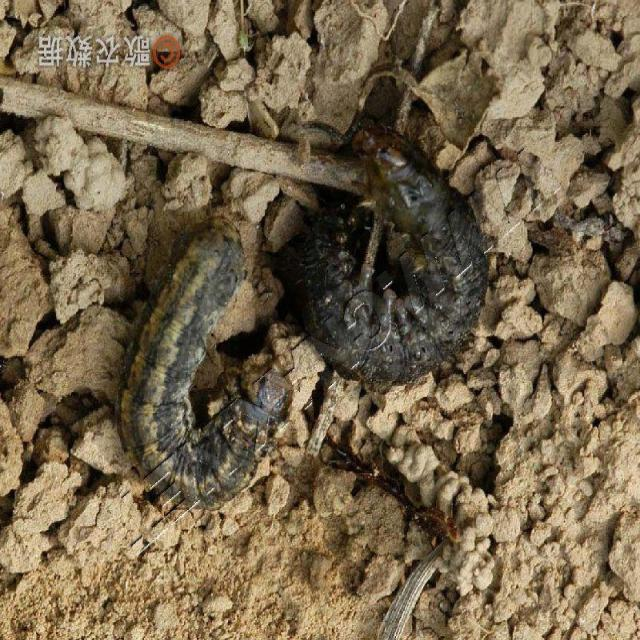black cutworm: (112, 224, 296, 526), (301, 117, 496, 397)
